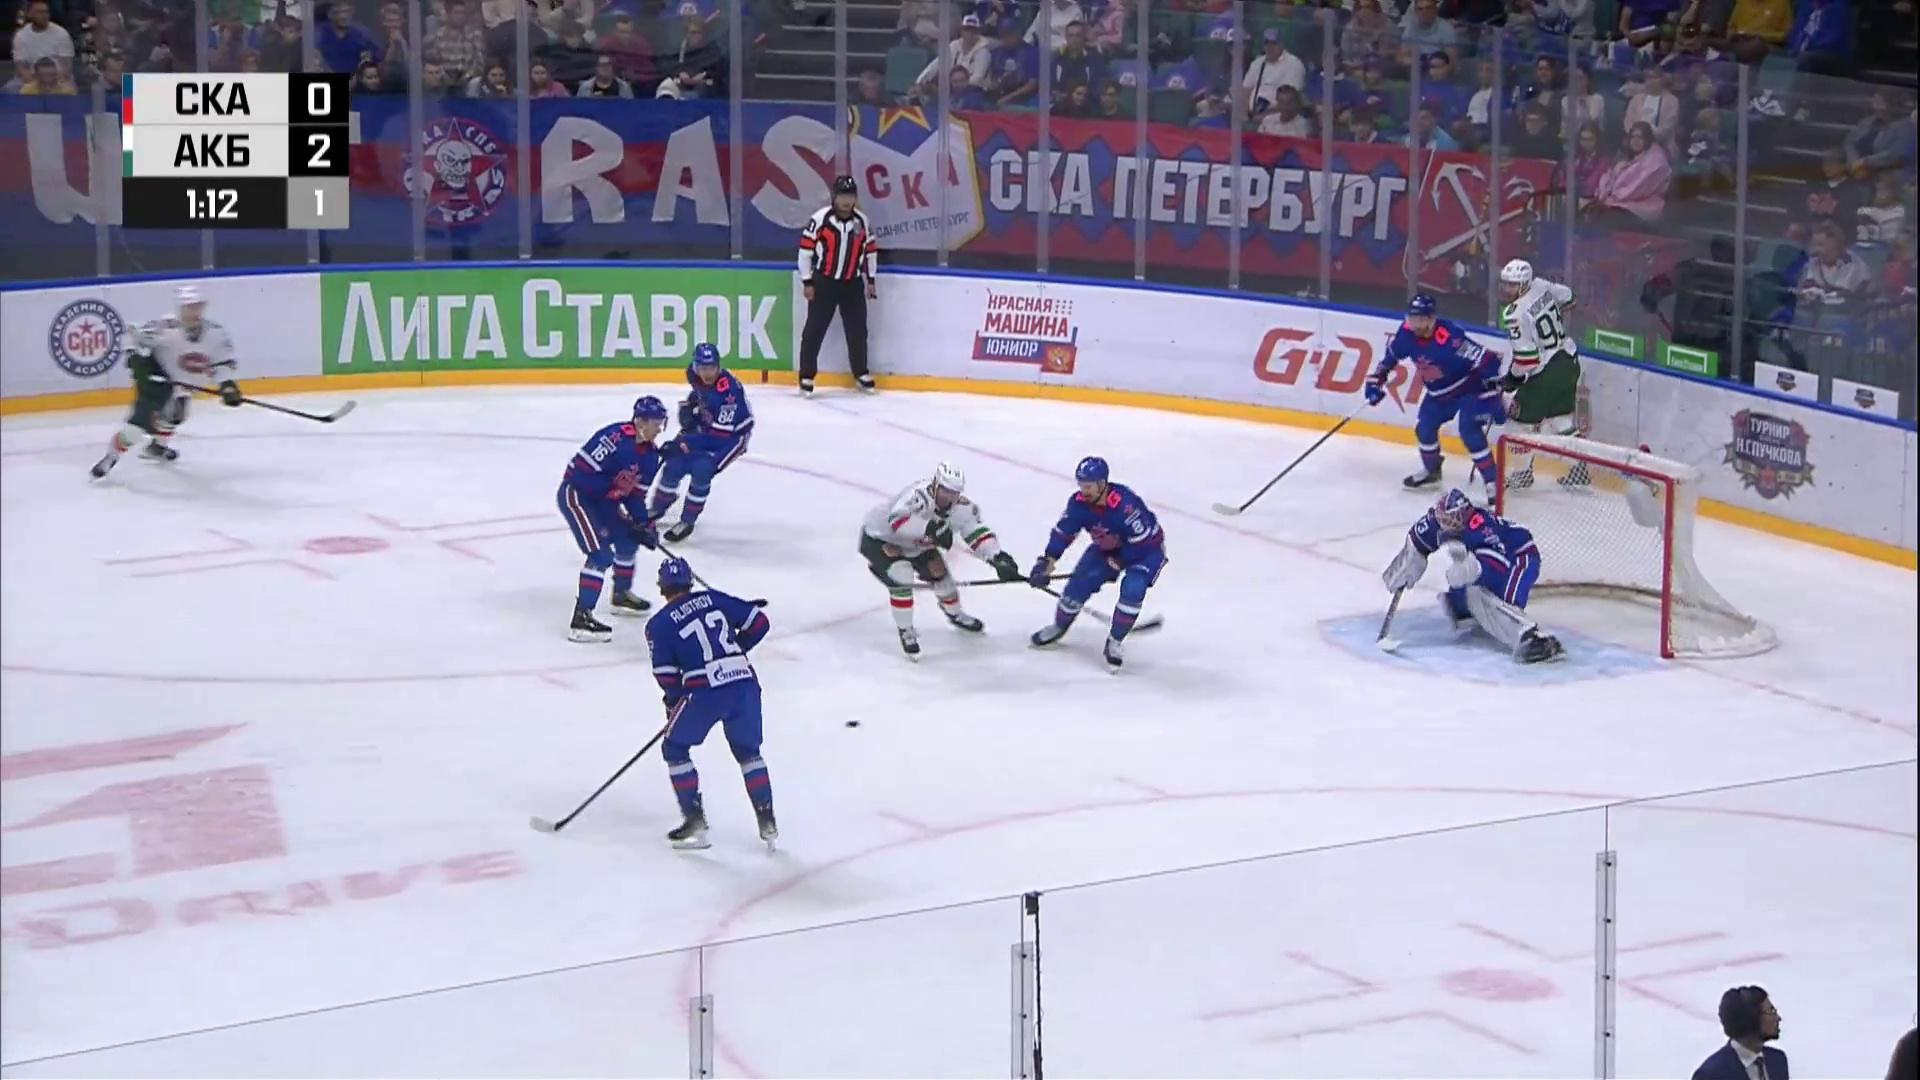ball: (845, 720, 860, 728)
